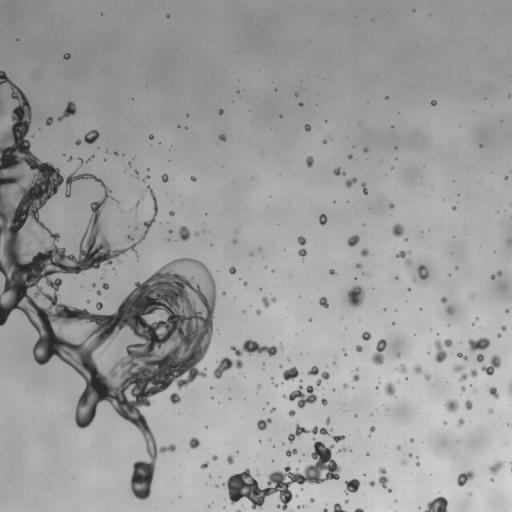droplet: (283, 385, 316, 408), (434, 339, 452, 362), (453, 365, 477, 381), (481, 355, 500, 375), (424, 496, 448, 511), (348, 286, 364, 306), (468, 337, 490, 351), (457, 470, 474, 486), (344, 478, 359, 494), (488, 461, 504, 474), (84, 130, 99, 143), (283, 367, 298, 380), (444, 399, 458, 412), (257, 418, 271, 430), (179, 226, 190, 241), (261, 296, 276, 307), (418, 265, 429, 279), (384, 382, 395, 396), (392, 223, 403, 236), (347, 235, 359, 246), (488, 386, 498, 398), (345, 177, 356, 187), (189, 437, 199, 448), (333, 502, 345, 511), (318, 297, 328, 307), (170, 393, 180, 403), (307, 366, 318, 375), (285, 448, 297, 456), (333, 168, 345, 175), (332, 435, 344, 442), (297, 236, 306, 245), (306, 156, 313, 167), (298, 248, 306, 257), (362, 332, 371, 340), (414, 365, 422, 374), (319, 214, 326, 224), (465, 400, 472, 410), (45, 117, 53, 125), (361, 248, 369, 256), (398, 364, 406, 372), (321, 371, 329, 379), (161, 174, 168, 182), (227, 455, 233, 464), (229, 267, 236, 274), (446, 306, 453, 313), (356, 345, 363, 352), (353, 373, 359, 381), (458, 418, 464, 426), (200, 462, 208, 468), (304, 124, 310, 131), (219, 134, 226, 140), (79, 158, 85, 165), (126, 235, 133, 241), (405, 258, 411, 265), (96, 302, 102, 309), (477, 354, 483, 361), (424, 374, 431, 380), (321, 398, 327, 405), (288, 410, 295, 416), (64, 53, 70, 59), (102, 283, 108, 289), (316, 379, 321, 386), (218, 109, 223, 115), (329, 269, 335, 274), (431, 100, 436, 105), (75, 140, 80, 145), (356, 263, 361, 268), (441, 297, 446, 302), (342, 383, 347, 388), (212, 455, 217, 460), (369, 481, 374, 486), (68, 156, 72, 161), (169, 211, 174, 215), (507, 239, 511, 244), (497, 271, 502, 275), (96, 290, 100, 295), (256, 309, 260, 314), (501, 326, 506, 330), (461, 386, 465, 391), (270, 408, 275, 412), (488, 409, 493, 413), (326, 418, 329, 424), (149, 135, 153, 139), (322, 139, 326, 143), (113, 151, 117, 155), (348, 154, 352, 158), (191, 176, 195, 180), (452, 206, 456, 210), (232, 239, 236, 243), (491, 275, 495, 279), (86, 299, 90, 303), (505, 309, 509, 313), (396, 352, 400, 356), (396, 445, 400, 449), (310, 498, 314, 502), (390, 203, 393, 208), (323, 508, 328, 511), (295, 92, 298, 96), (299, 102, 302, 106), (364, 148, 367, 152), (250, 252, 253, 256), (497, 334, 501, 337), (443, 421, 447, 424), (408, 453, 412, 456), (87, 158, 90, 161), (135, 170, 138, 173), (504, 176, 507, 179), (134, 227, 137, 230), (92, 283, 95, 286), (244, 282, 247, 285), (355, 367, 358, 370), (410, 439, 413, 442), (402, 461, 405, 464), (166, 15, 169, 17), (279, 115, 282, 117), (147, 175, 149, 178), (169, 230, 171, 233), (196, 232, 198, 235), (455, 266, 457, 269), (408, 288, 410, 291), (222, 292, 225, 294), (258, 385, 260, 388), (416, 463, 419, 465), (257, 472, 259, 475), (491, 478, 493, 481), (345, 500, 348, 502), (5, 87, 7, 89), (386, 96, 388, 98), (91, 155, 93, 157), (383, 308, 385, 310), (476, 317, 478, 319), (308, 319, 310, 321), (392, 322, 394, 324), (281, 347, 283, 349), (344, 353, 346, 355), (275, 384, 277, 386), (375, 386, 377, 388), (354, 414, 356, 416)
ligament: (0, 71, 214, 500), (222, 438, 341, 510), (230, 339, 277, 357), (288, 424, 329, 442), (213, 357, 243, 378), (371, 339, 386, 365), (57, 101, 76, 121), (378, 467, 391, 492), (396, 250, 411, 258), (361, 182, 367, 194), (457, 352, 467, 359), (0, 98, 4, 114), (507, 382, 511, 396), (369, 426, 374, 435), (337, 447, 346, 452), (354, 508, 363, 511), (135, 201, 139, 207), (297, 505, 303, 508), (510, 461, 511, 470), (236, 510, 241, 511)
